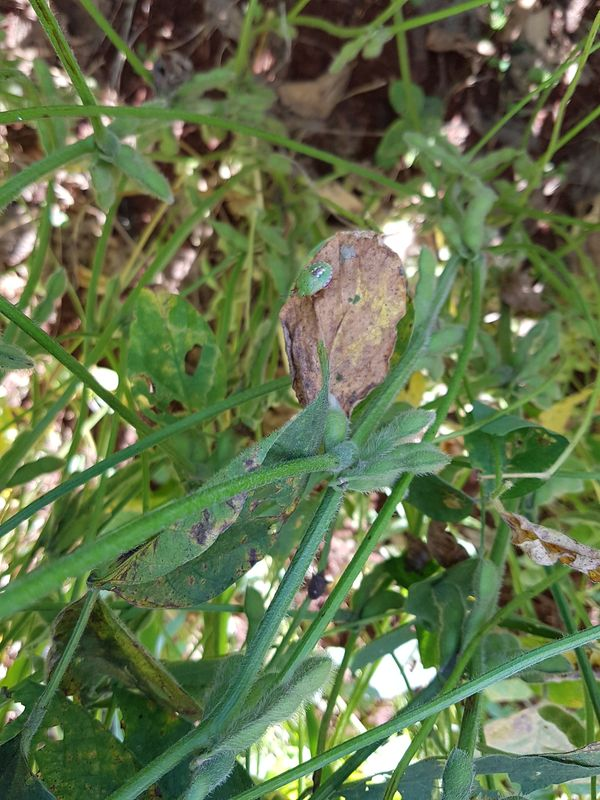Euschistus_heros_adulto: (303, 567, 335, 603)
Nezara_viridula_ninfa: (284, 258, 337, 305)
